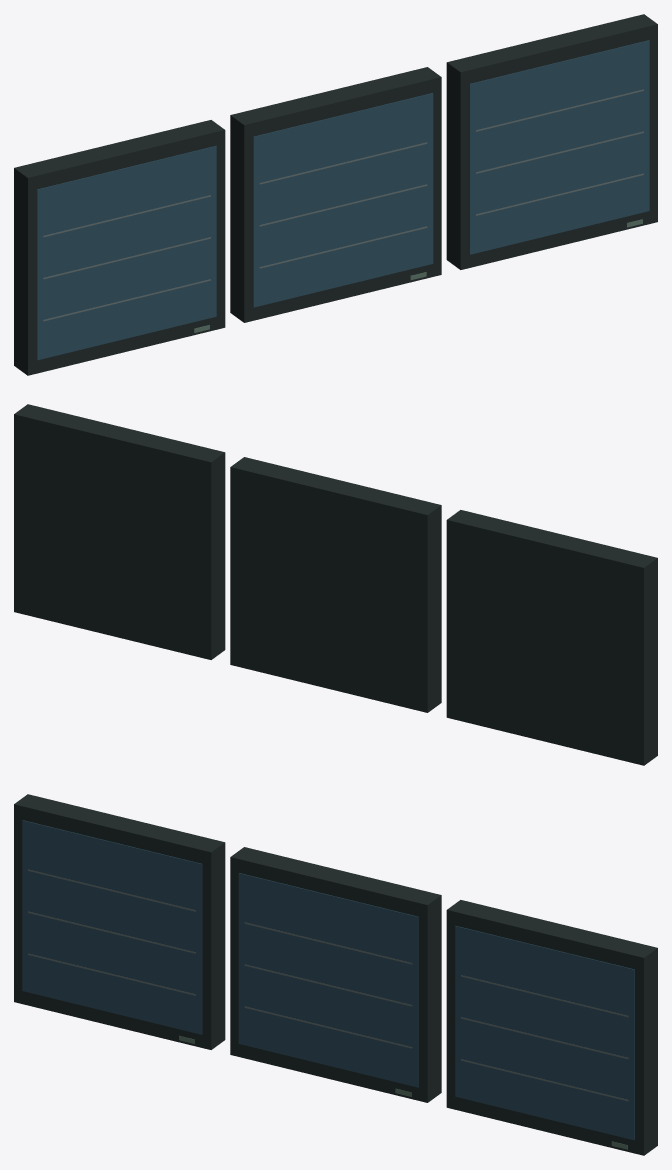
File: LP_Security_MonitorBank.fbx
The picture shows the model from 3 angles, top to bottom: view 1: azimuth 30°, elevation 25°; view 2: azimuth 150°, elevation 25°; view 3: azimuth 330°, elevation 25°; orthographic projection.
Visible parts, largest first — view 1: M_Museum_DeepBlue, Charcoal, M_Museum_BrushedMetal; view 2: Charcoal; view 3: M_Museum_DeepBlue, Charcoal, M_Museum_BrushedMetal.
Part boxes in pixels (left/top/right/bottom): M_Museum_DeepBlue: left=37, top=40, right=649, bottom=360; Charcoal: left=14, top=14, right=657, bottom=375; M_Museum_BrushedMetal: left=43, top=89, right=643, bottom=321; Charcoal: left=14, top=404, right=657, bottom=765; M_Museum_DeepBlue: left=22, top=820, right=634, bottom=1140; Charcoal: left=14, top=794, right=657, bottom=1155; M_Museum_BrushedMetal: left=28, top=869, right=628, bottom=1101.
Bounding box in the file's own units: 200 × 60 × 8.
